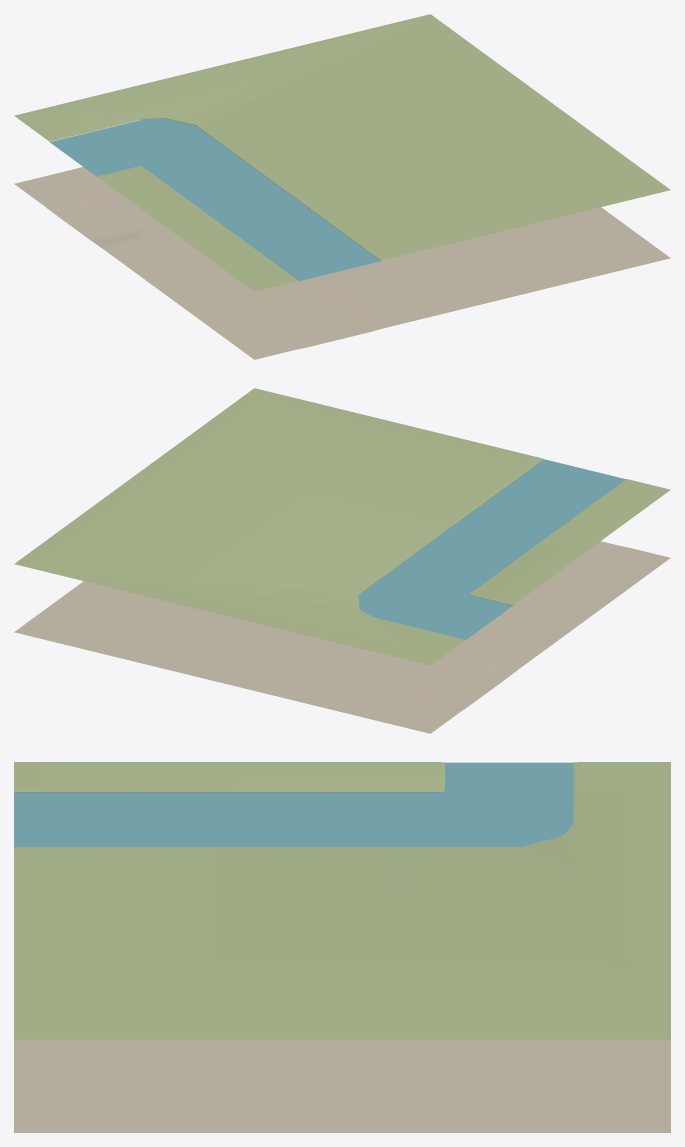
The picture shows the model from 3 angles, top to bottom: view 1: azimuth 30°, elevation 25°; view 2: azimuth 150°, elevation 25°; view 3: azimuth 270°, elevation 25°; orthographic projection. The views are drawn at different scales.
Parts seen in each view (by area): view 1: s_11_-7__grass, s_11_-7__soil, s_11_-7__water; view 2: s_11_-7__grass, s_11_-7__soil, s_11_-7__water; view 3: s_11_-7__grass, s_11_-7__soil, s_11_-7__water.
Boxes of the visible parts, <box> form: s_11_-7__grass: <box>14,14,670,291</box>; s_11_-7__soil: <box>14,167,670,359</box>; s_11_-7__water: <box>50,118,380,281</box>; s_11_-7__grass: <box>14,388,670,665</box>; s_11_-7__soil: <box>14,541,670,733</box>; s_11_-7__water: <box>358,459,625,639</box>; s_11_-7__grass: <box>14,762,670,1039</box>; s_11_-7__soil: <box>14,1039,670,1132</box>; s_11_-7__water: <box>14,762,573,846</box>.
Bounding box in the file's own units: 128 × 20.14 × 128.
